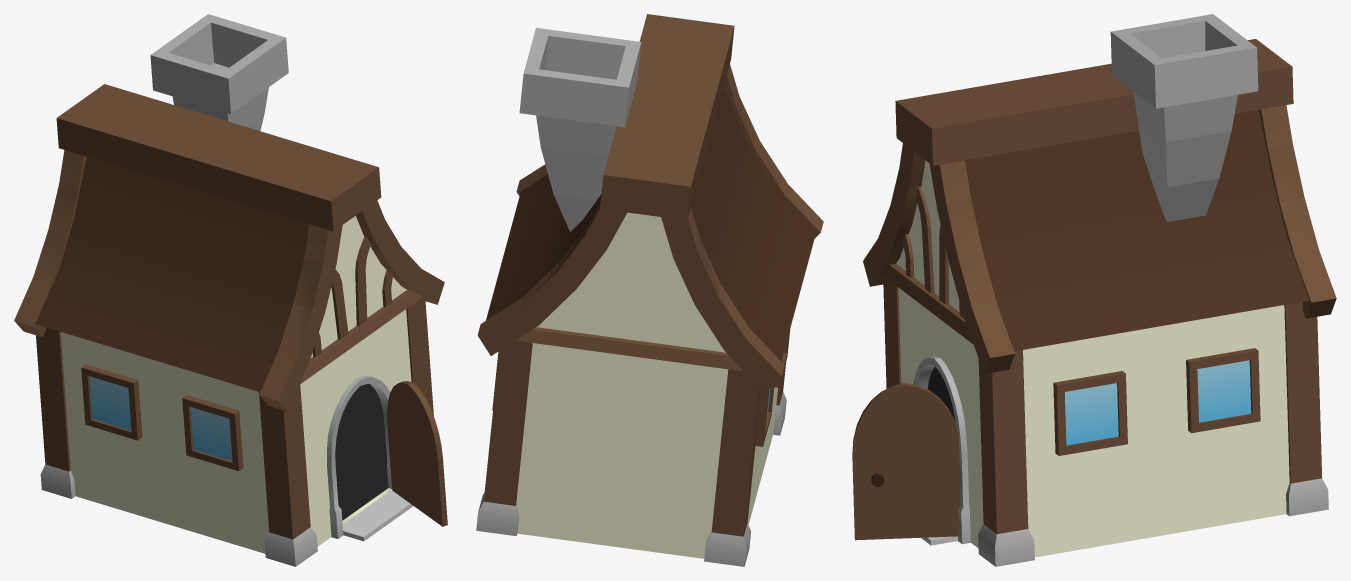
Rendered from House.fbx.
The picture shows the model from 3 angles, left to right: view 1: azimuth 30°, elevation 25°; view 2: azimuth 150°, elevation 25°; view 3: azimuth 270°, elevation 25°; orthographic projection. The views are drawn at different scales.
Visible parts, largest first — view 1: House, Door; view 2: House; view 3: House, Door.
Part boxes in pixels (left/top/right/bottom): House: left=14, top=14, right=444, bottom=566; Door: left=387, top=381, right=447, bottom=526; House: left=476, top=14, right=823, bottom=566; House: left=863, top=14, right=1336, bottom=566; Door: left=852, top=383, right=960, bottom=540.
Bounding box in the file's own units: 1.35 × 1.61 × 1.47.
